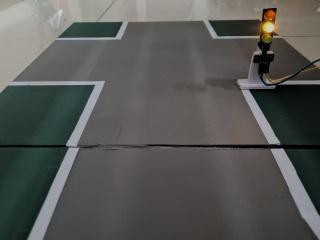yellow: (249, 2, 288, 50)
